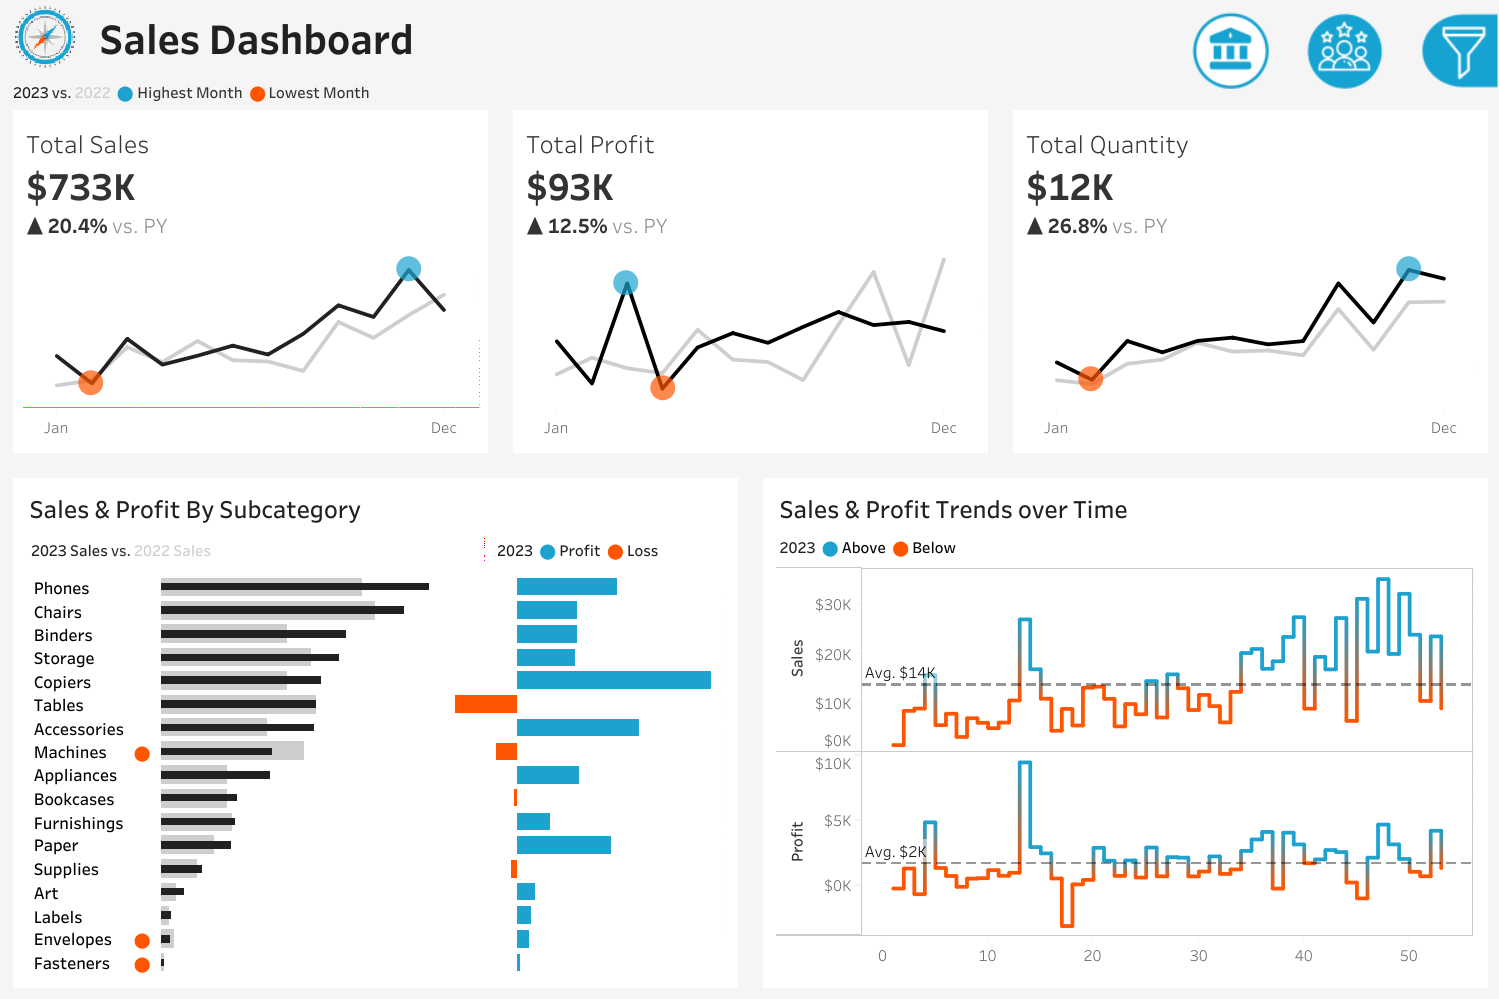

The page's visual inventory and layout, read from the dashboard file:
{"tool":"tableau","page":{"name":"Sales Dashboard","canvas":[1200,800],"ordinal":1},"visuals":[{"type":"image","param":"Image/Icon - Logo.png","box":[0,0,73,59]},{"type":"text","box":[73,0,820,59]},{"type":"dashboard-object","box":[940,6,91,70]},{"type":"dashboard-object","box":[1031,6,91,70]},{"type":"blank","box":[952,10,237,86]},{"type":"worksheet","title":"Legend KPI","mark":"Automatic","box":[0,59,1200,29]},{"type":"worksheet","title":"KPI Sales","mark":"Automatic","rows":["Calculation_721701895347843083"],"cols":["Order Date"],"box":[0,88,400,284]},{"type":"worksheet","title":"KPI Profit","mark":"Automatic","rows":["Min/Max Sales (copy)_237846410425847814"],"cols":["Order Date"],"box":[400,88,400,284]},{"type":"worksheet","title":"KPI Quantity","mark":"Automatic","rows":["Min/Max Sales (copy) (copy)_237846410425856007"],"cols":["Order Date"],"box":[800,88,400,284]},{"type":"text","box":[952,96,237,40]},{"type":"parameter","param":"[Parameters].[Parameter 1]","box":[952,136,237,56]},{"type":"text","box":[952,192,237,33]},{"type":"filter","title":"KPI Sales","param":"[federated.1kpxa041aiai2y1cl4pui1t4eju9].[none:Category:nk]","box":[952,225,237,61]},{"type":"filter","title":"KPI Sales","param":"[federated.1kpxa041aiai2y1cl4pui1t4eju9].[none:Sub-Category:nk]","box":[952,286,237,61]},{"type":"blank","box":[952,347,237,60]},{"type":"text","box":[17,389,566,40]},{"type":"text","box":[617,389,566,40]},{"type":"text","box":[952,407,237,33]},{"type":"worksheet","title":"Legend Subcategory","mark":"Automatic","box":[17,429,374,32]},{"type":"text","box":[391,429,192,32]},{"type":"text","box":[617,429,566,29]},{"type":"filter","title":"KPI Sales","param":"[federated.1kpxa041aiai2y1cl4pui1t4eju9].[none:Region:nk]","box":[952,440,237,61]},{"type":"worksheet","title":"Weekly Trends","mark":"Automatic","rows":["Calculation_721701895334993921","CY Sales (copy)_237846410424180736"],"cols":["Order Date"],"box":[617,458,566,325]},{"type":"worksheet","title":"Subcategory Comparison","mark":"Bar","rows":["Sub-Category","Calculation_2435040078806671369"],"cols":["CY Sales (copy)_721701895335804930","Calculation_721701895334993921","CY Sales (copy)_237846410424180736"],"box":[17,461,566,321.9]},{"type":"filter","title":"KPI Sales","param":"[federated.1kpxa041aiai2y1cl4pui1t4eju9].[none:State:nk]","box":[952,501,237,61]},{"type":"filter","title":"KPI Sales","param":"[federated.1kpxa041aiai2y1cl4pui1t4eju9].[none:City:nk]","box":[952,562,237,61]}]}

Visuals, with their boxes in screenshot pixels (x1, y1, x2, y2), scaled from the page's 1200x800 canvas onto the 1499x999 screenshot:
image: 0 0 91 74
text: 91 0 1116 74
dashboard-object: 1174 7 1288 95
dashboard-object: 1288 7 1402 95
blank: 1189 12 1485 120
"Legend KPI" worksheet: 0 74 1498 110
"KPI Sales" worksheet: 0 110 500 465
"KPI Profit" worksheet: 500 110 999 465
"KPI Quantity" worksheet: 999 110 1498 465
text: 1189 120 1485 170
parameter: 1189 170 1485 240
text: 1189 240 1485 281
"KPI Sales" filter: 1189 281 1485 357
"KPI Sales" filter: 1189 357 1485 433
blank: 1189 433 1485 508
text: 21 486 728 536
text: 771 486 1478 536
text: 1189 508 1485 549
"Legend Subcategory" worksheet: 21 536 488 576
text: 488 536 728 576
text: 771 536 1478 572
"KPI Sales" filter: 1189 549 1485 626
"Weekly Trends" worksheet: 771 572 1478 978
"Subcategory Comparison" worksheet (Bar marks): 21 576 728 978
"KPI Sales" filter: 1189 626 1485 702
"KPI Sales" filter: 1189 702 1485 778
